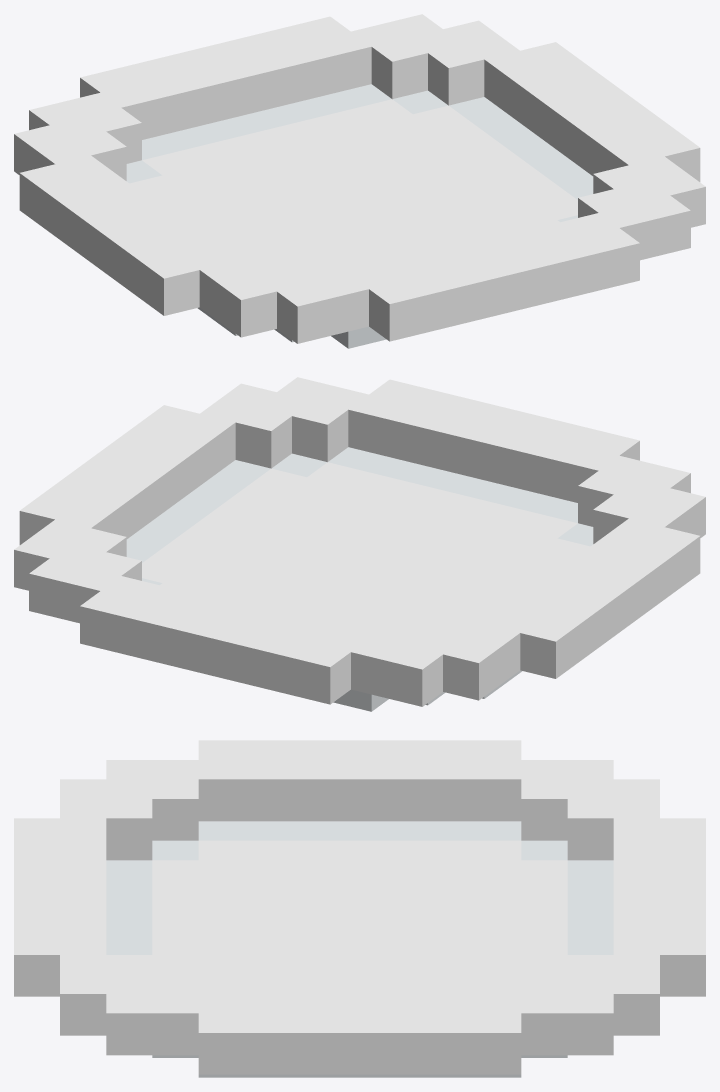
File: Clean_Dish.obj
3 renders of one model, top to bottom at view 1: azimuth 30°, elevation 25°; view 2: azimuth 150°, elevation 25°; view 3: azimuth 270°, elevation 25°, orthographic. The views are drawn at different scales.
Size of the model in its own units: 1.5 by 0.2 by 1.5.
Materials: 1 (1 with a texture image).
